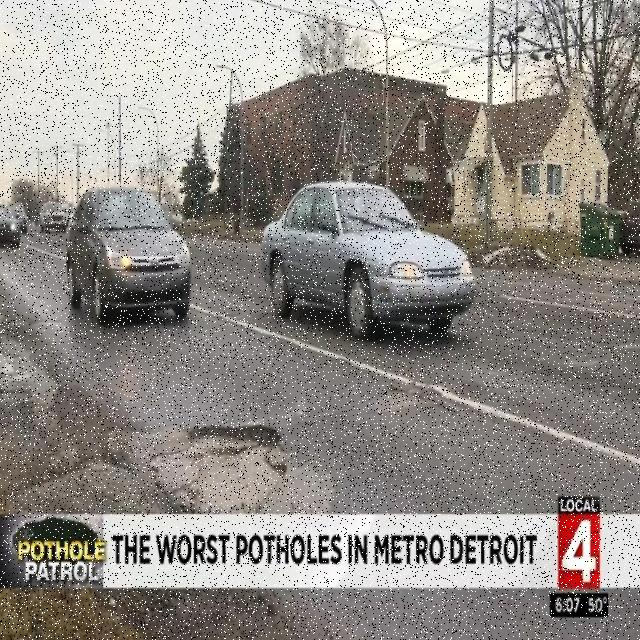pothole: (147, 421, 296, 519), (1, 310, 39, 387), (380, 376, 426, 413)
